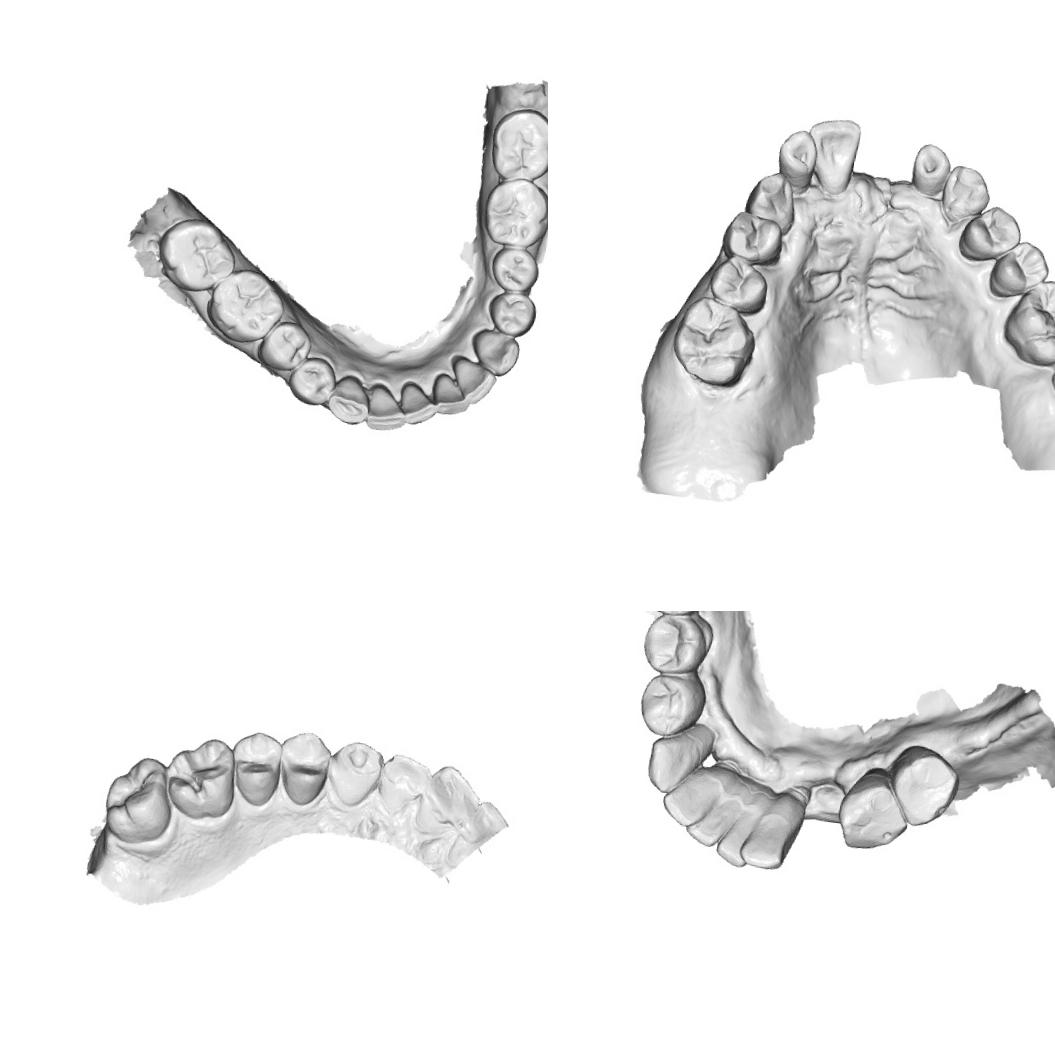canine: (324, 735, 385, 811), (642, 728, 704, 798), (740, 168, 800, 238), (937, 162, 995, 228), (466, 324, 526, 380), (324, 370, 374, 430)
incisor: (800, 114, 864, 198), (417, 760, 487, 828), (372, 748, 433, 822), (658, 765, 725, 832), (734, 804, 800, 872), (682, 786, 748, 853), (714, 798, 766, 872), (772, 126, 820, 198), (444, 350, 499, 410), (907, 141, 953, 200), (364, 380, 410, 436), (394, 376, 440, 430), (426, 368, 473, 420)
molar: (666, 292, 762, 394), (97, 750, 179, 850), (150, 210, 243, 298), (158, 732, 242, 824), (202, 263, 290, 349), (476, 173, 548, 253), (997, 273, 1055, 371), (486, 102, 548, 190)
premolar: (882, 740, 963, 832), (832, 767, 916, 855), (634, 668, 708, 742), (274, 726, 337, 810), (224, 725, 286, 810), (637, 611, 710, 676), (706, 250, 773, 318), (987, 235, 1053, 303), (956, 202, 1024, 268), (718, 208, 787, 268), (255, 314, 314, 376), (486, 240, 546, 297), (284, 352, 342, 410), (484, 283, 540, 343)
